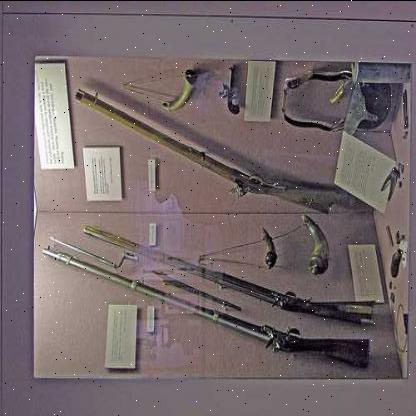rifle: (41, 236, 369, 387), (76, 179, 379, 336), (43, 62, 341, 220)
